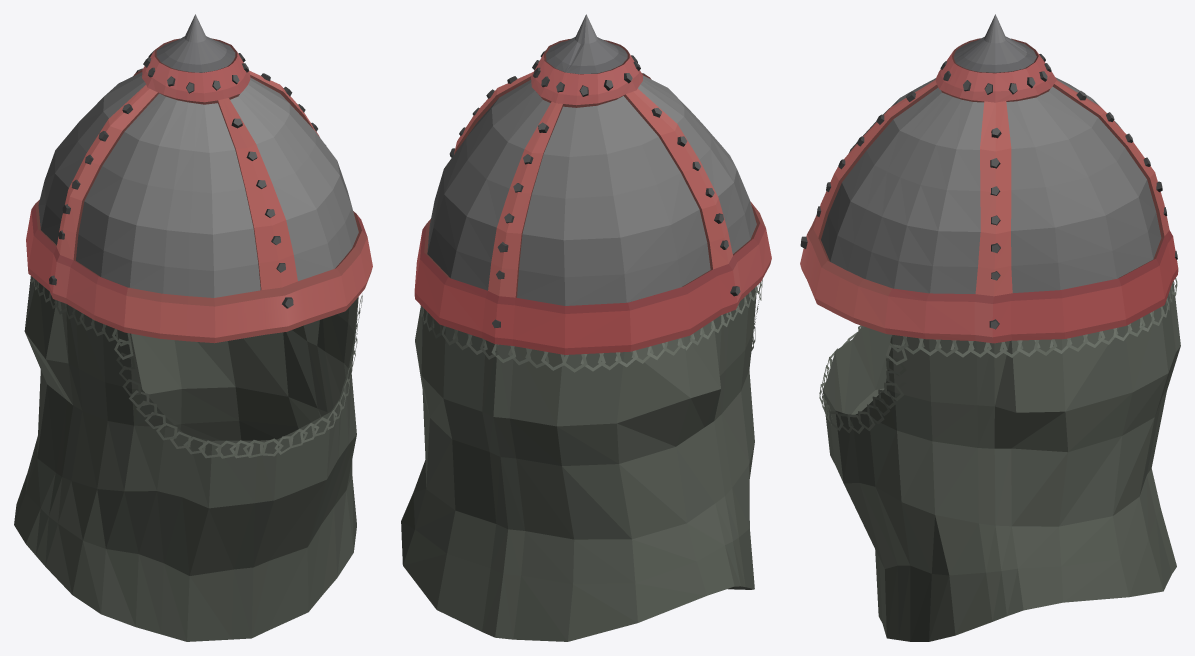
Rendered from slavicHelmetFemale.glb.
3 views of the same model, side by side, from view 1: azimuth 30°, elevation 25°; view 2: azimuth 150°, elevation 25°; view 3: azimuth 270°, elevation 25° (orthographic). The views are drawn at different scales.
Visible parts, largest first — view 1: slavicHelmet; view 2: slavicHelmet; view 3: slavicHelmet.
Part boxes in pixels (x1,y1,x2,y2): slavicHelmet: (14, 14, 372, 641); slavicHelmet: (401, 14, 771, 641); slavicHelmet: (800, 14, 1180, 641).
Bounding box in the file's own units: 0.2986 × 0.5364 × 0.3073.
